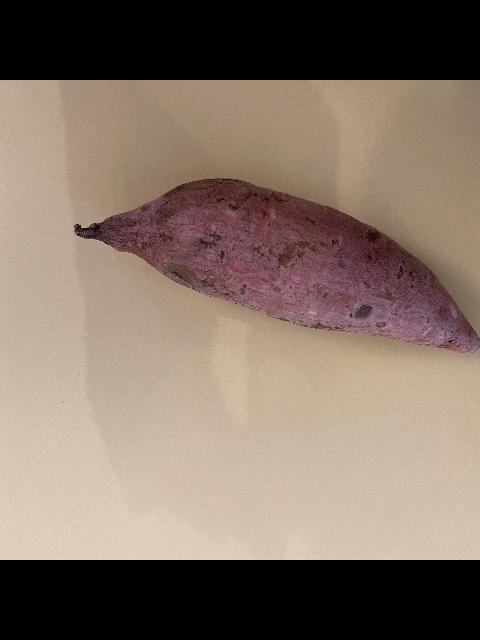sweetpotato: (67, 176, 480, 356)
